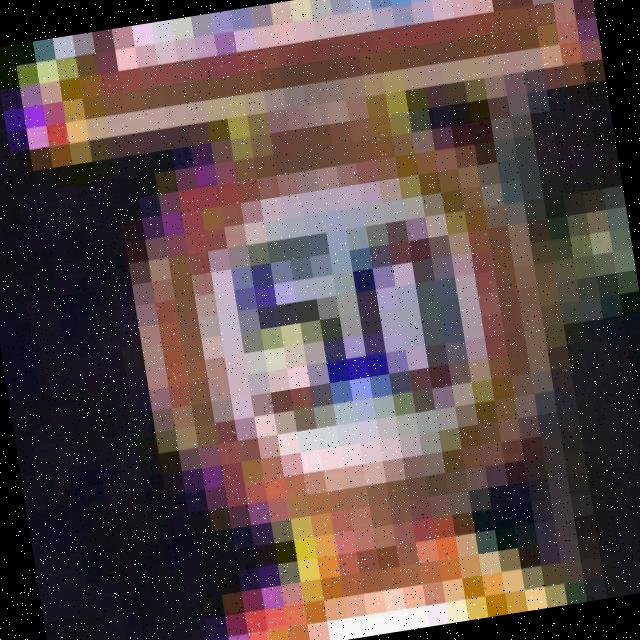Ograniczenie predkosci do 50: (113, 107, 556, 549)
